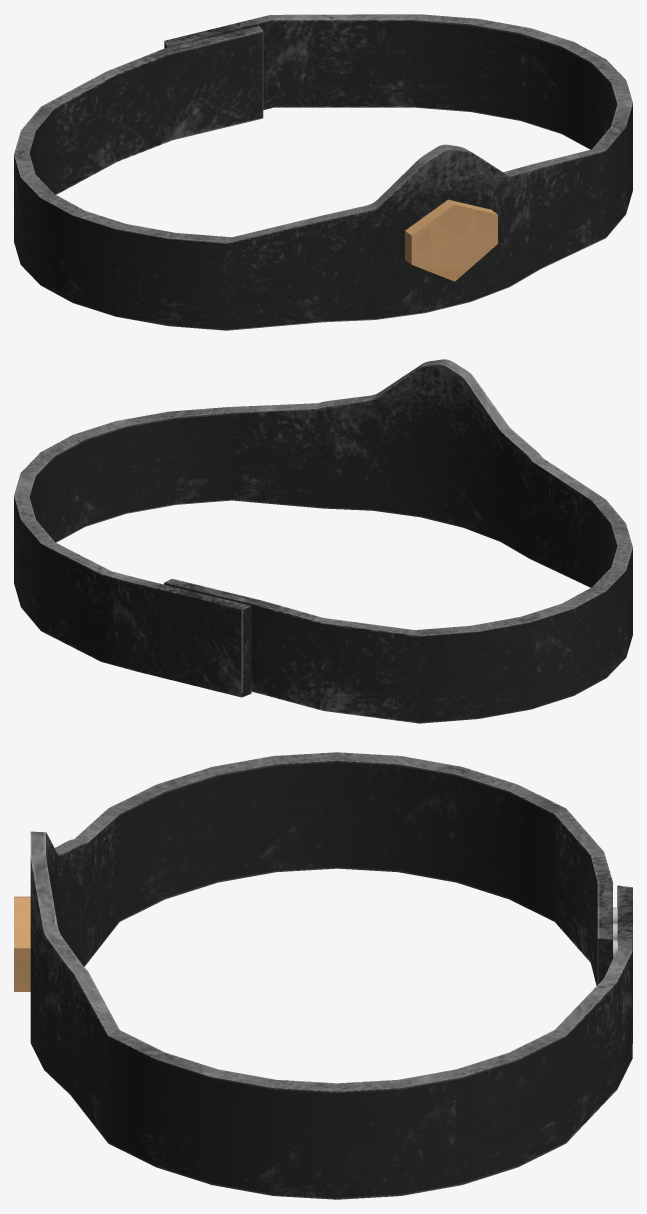
The model's file is Belt.fbx.
The picture shows the model from 3 angles, top to bottom: view 1: azimuth 30°, elevation 25°; view 2: azimuth 150°, elevation 25°; view 3: azimuth 270°, elevation 25°; orthographic projection. The views are drawn at different scales.
Visible parts, largest first — view 1: polySurface2; view 2: polySurface2; view 3: polySurface2.
Boxes of the visible parts, box(x1,y1,x2,y2) form: polySurface2: box(14, 14, 632, 330); polySurface2: box(14, 359, 632, 723); polySurface2: box(14, 752, 632, 1199).
Bounding box in the file's own units: 2.61 × 0.6965 × 2.01.
Materials: 3 (3 with a texture image).
